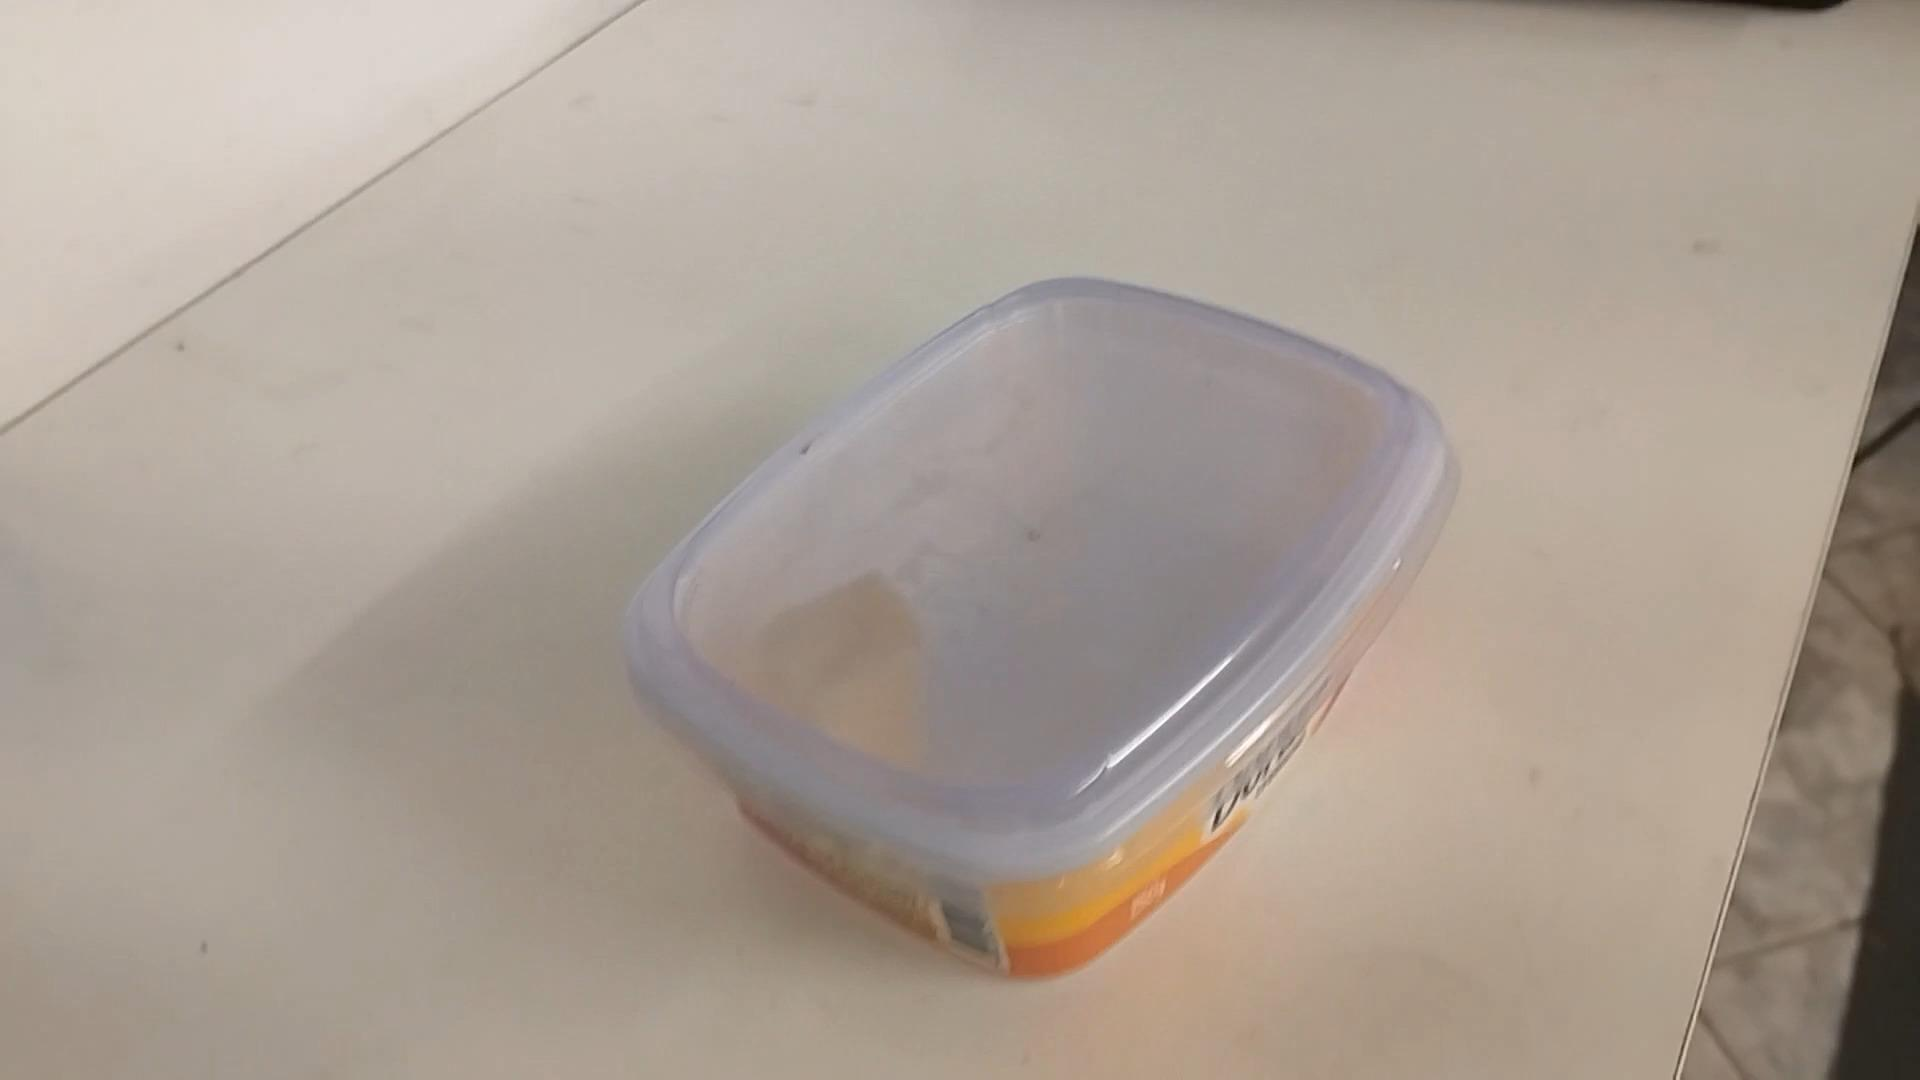butter: (616, 277, 1452, 981)
